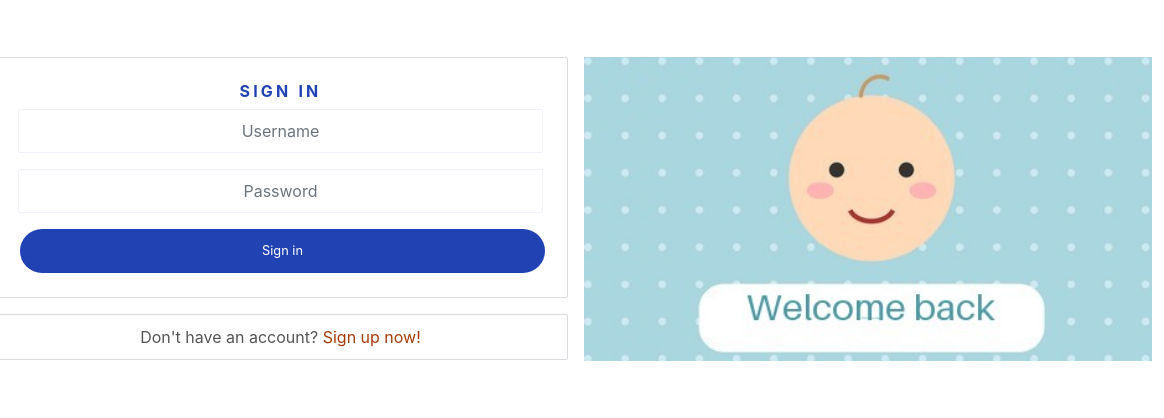
Test: network failure renders a safe message instead of a blank form
Step 1. Click the button "Sign in" → point(282, 251), box x1=20 y1=229 x2=545 y2=273
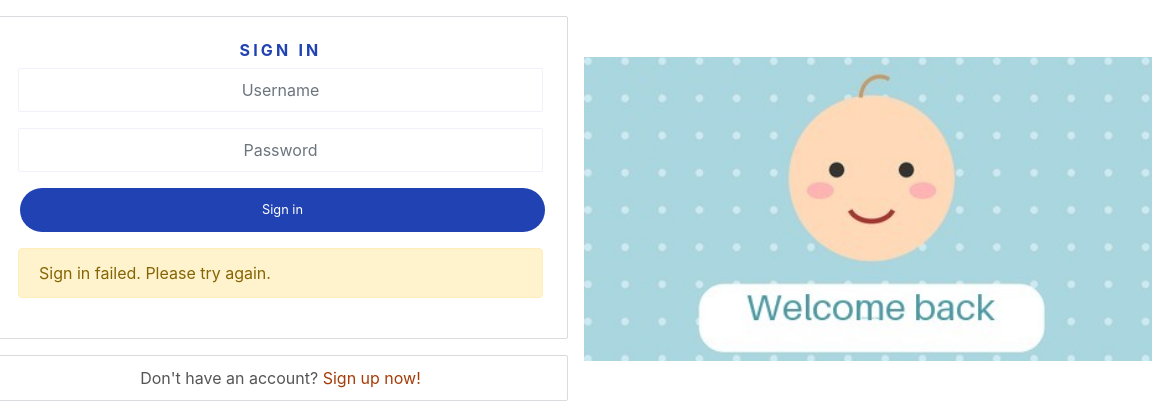
expect the message reads "Sign in failed. Please try again.": met, box x1=39 y1=263 x2=271 y2=283
